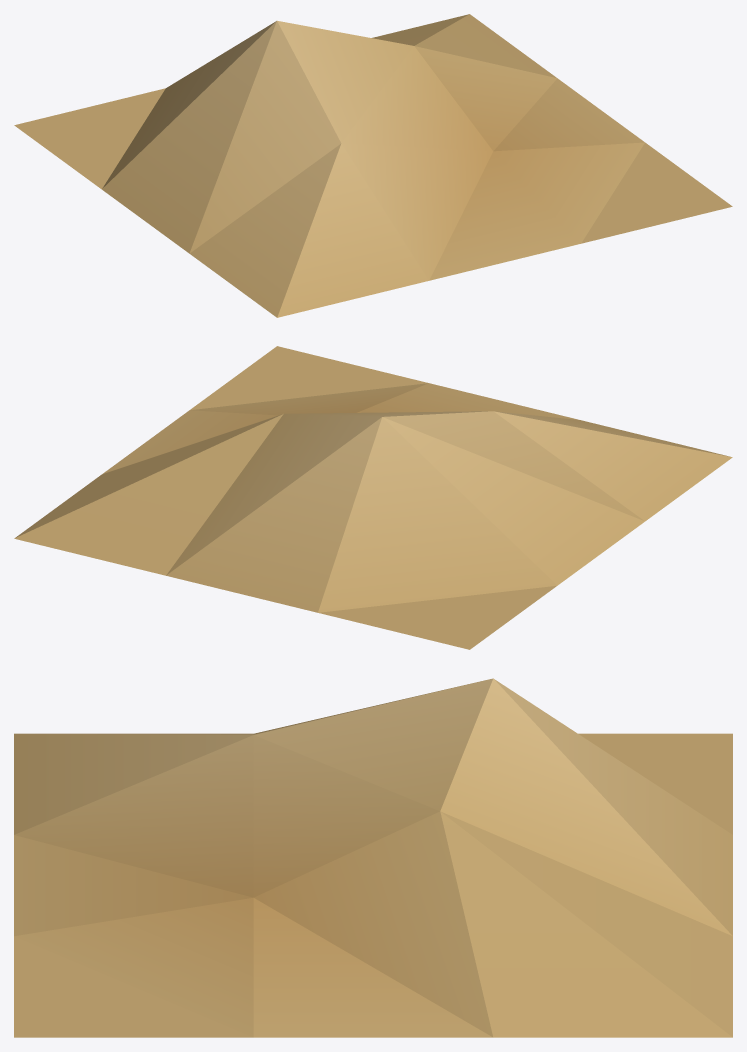
The model's file is Mixed_Ground_Sand_01.fbx.
3 views of the same model, one above another, from view 1: azimuth 30°, elevation 25°; view 2: azimuth 150°, elevation 25°; view 3: azimuth 270°, elevation 25° (orthographic). The views are drawn at different scales.
Parts seen in each view (by area): view 1: Ground_Sand_01.001; view 2: Ground_Sand_01.001; view 3: Ground_Sand_01.001.
Part boxes in pixels (box(x1,y1,x2,y2)): Ground_Sand_01.001: box(14, 14, 732, 317); Ground_Sand_01.001: box(14, 346, 732, 649); Ground_Sand_01.001: box(14, 678, 732, 1037).
Size of the model in its own units: 500 by 132 by 500.
